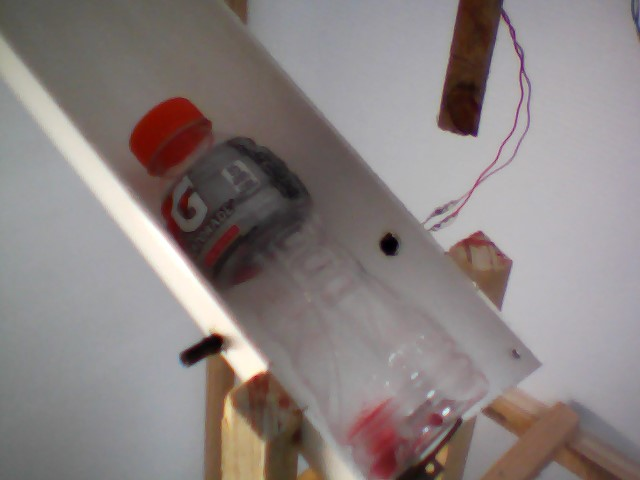plastico: (115, 97, 504, 480)
